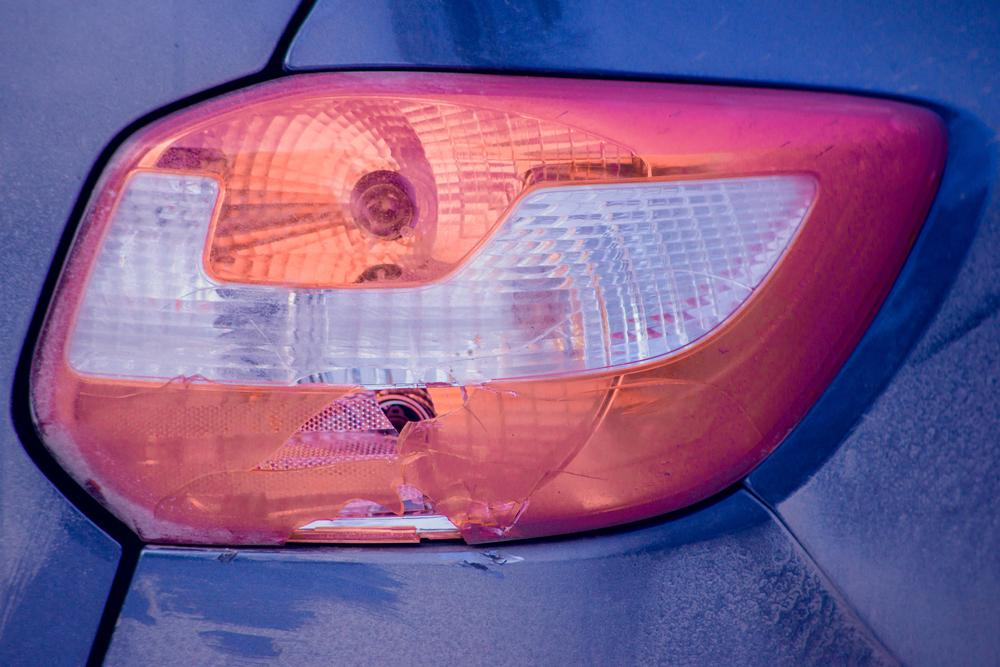lamp broken: (31, 71, 946, 547)
